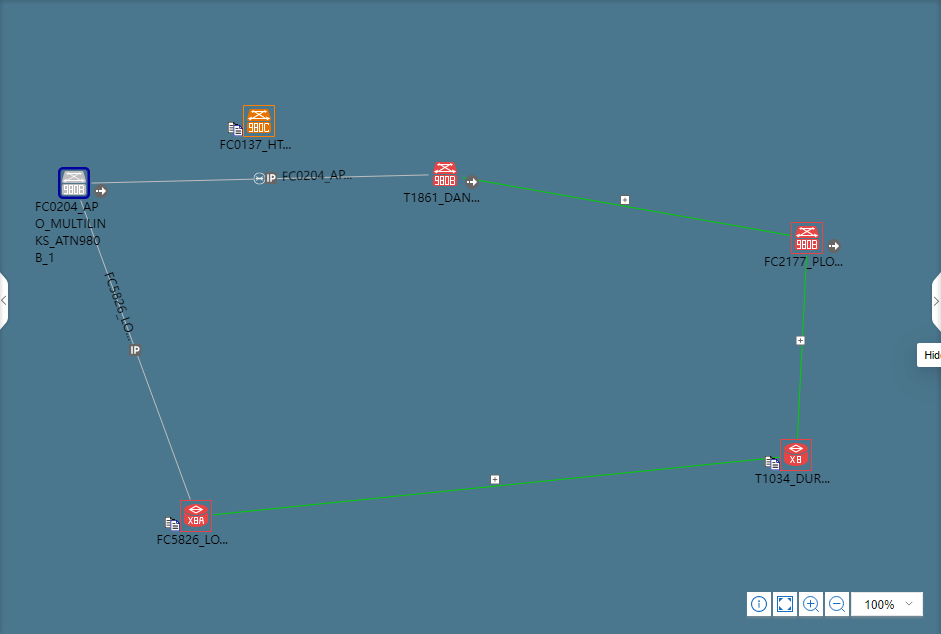ATN_Gray: (59, 168, 89, 199)
ATN_Orange: (244, 105, 274, 136)
ATN_Red: (791, 223, 821, 252), (433, 163, 456, 186)
Link_Gray: (79, 200, 191, 500), (91, 174, 429, 184)
Link_Green: (213, 457, 765, 517), (462, 175, 790, 237), (795, 255, 809, 437)
Router_Red: (781, 440, 811, 471), (181, 502, 211, 530)
